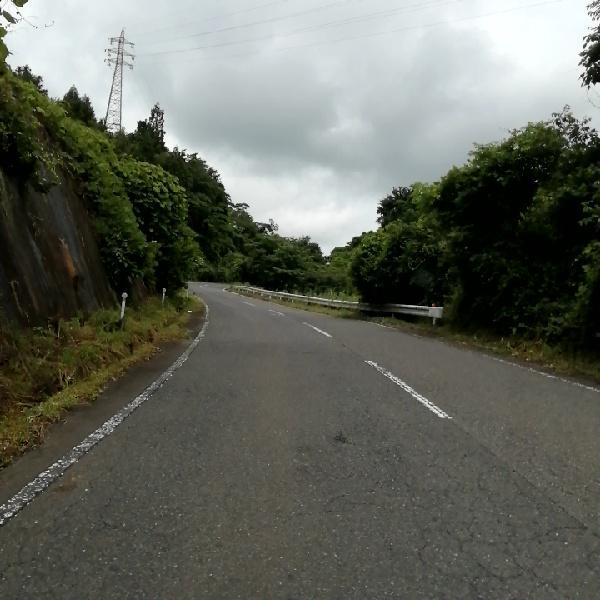D20: (361, 431, 599, 591), (0, 441, 163, 573)
D40: (323, 429, 351, 449)
D44: (0, 329, 213, 522), (357, 354, 454, 420)
